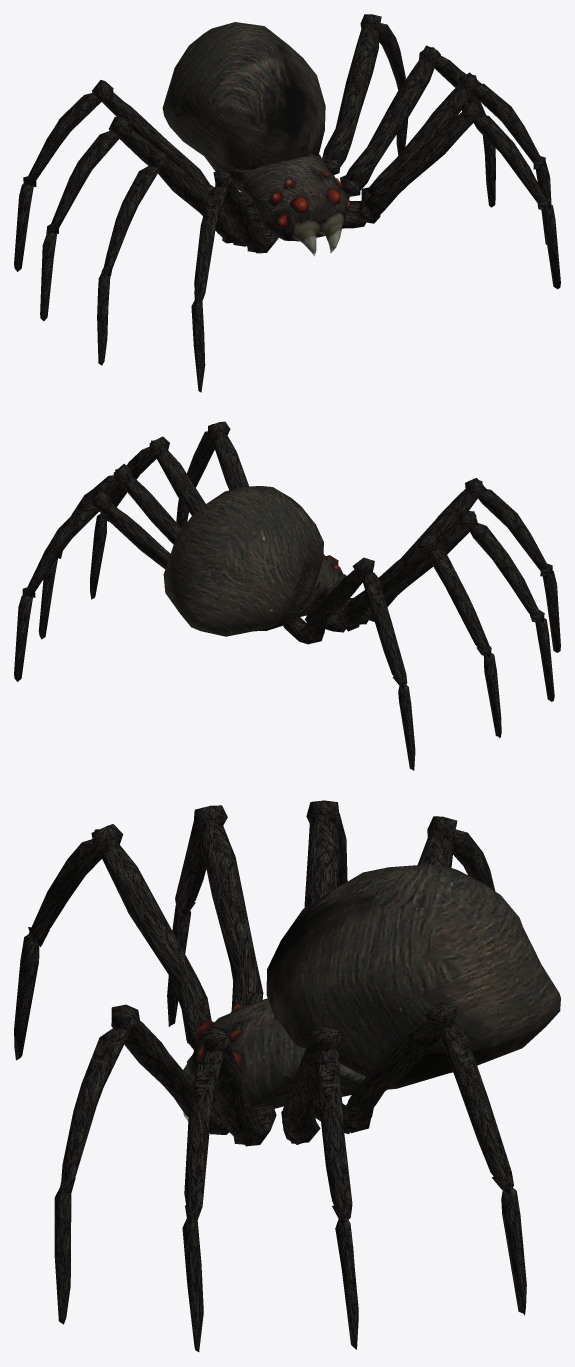
The model's file is spider.glb.
3 views of the same model, one above another, from view 1: azimuth 30°, elevation 25°; view 2: azimuth 150°, elevation 25°; view 3: azimuth 270°, elevation 25° (orthographic). The views are drawn at different scales.
Parts seen in each view (by area): view 1: body, leg_L1_mesh, leg_R4_mesh, leg_L3_mesh, leg_R2_mesh, leg_L4_mesh, leg_R1_mesh, leg_L2_mesh, leg_R3_mesh; view 2: body, leg_R3_mesh, leg_R4_mesh, leg_L4_mesh, leg_R2_mesh, leg_R1_mesh, leg_L2_mesh, leg_L3_mesh, leg_L1_mesh; view 3: body, leg_R1_mesh, leg_L4_mesh, leg_L1_mesh, leg_L2_mesh, leg_L3_mesh, leg_R2_mesh, leg_R3_mesh, leg_R4_mesh.
Boxes of the visible parts, x1,y1,x2,y2 form: body: (162, 22, 350, 256); leg_L1_mesh: (342, 102, 560, 289); leg_R4_mesh: (14, 80, 255, 271); leg_L3_mesh: (340, 45, 495, 207); leg_R2_mesh: (97, 150, 264, 365); leg_L4_mesh: (322, 14, 408, 177); leg_R1_mesh: (191, 169, 278, 392); leg_L2_mesh: (348, 72, 551, 244); leg_R3_mesh: (40, 117, 261, 320); body: (163, 486, 346, 636); leg_R3_mesh: (305, 534, 501, 737); leg_R4_mesh: (283, 557, 415, 770); leg_L4_mesh: (14, 490, 170, 681); leg_R2_mesh: (335, 511, 554, 701); leg_R1_mesh: (344, 478, 560, 652); leg_L2_mesh: (90, 436, 205, 599); leg_L3_mesh: (38, 464, 181, 639); leg_L1_mesh: (176, 421, 249, 528); body: (183, 864, 560, 1121); leg_R1_mesh: (14, 824, 211, 1060); leg_L4_mesh: (313, 1002, 526, 1315); leg_L1_mesh: (54, 1004, 229, 1324); leg_L2_mesh: (182, 1026, 276, 1351); leg_L3_mesh: (281, 1025, 358, 1349); leg_R2_mesh: (167, 805, 263, 1026); leg_R3_mesh: (304, 800, 347, 907); leg_R4_mesh: (417, 816, 495, 890).
Bounding box in the file's own units: 0.2 × 0.0895 × 0.1397.
2 materials, 2 textured.
